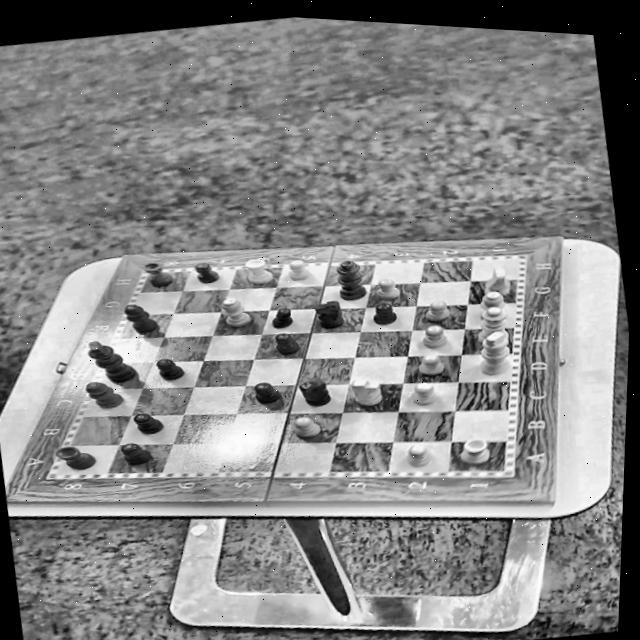chessboard: (55, 258, 519, 475)
